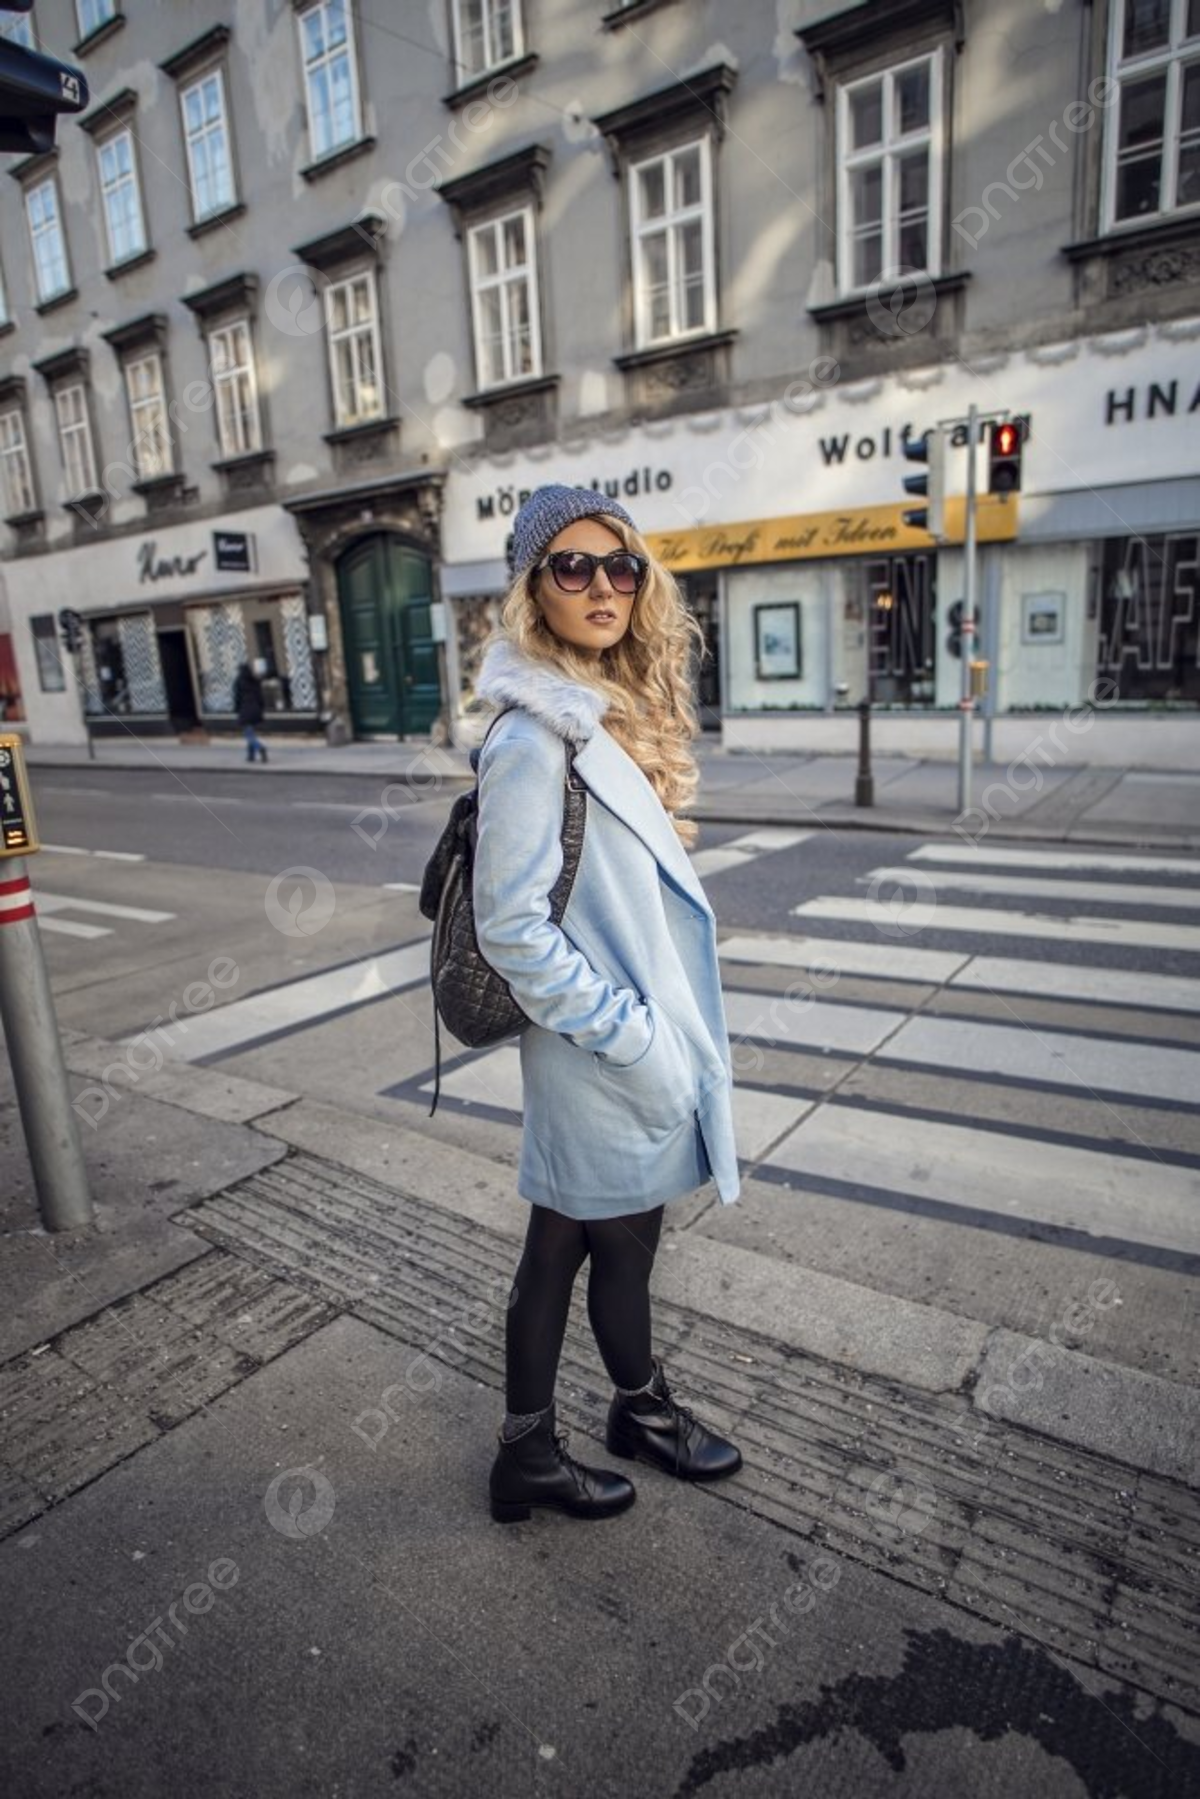person: (404, 477, 768, 1540)
